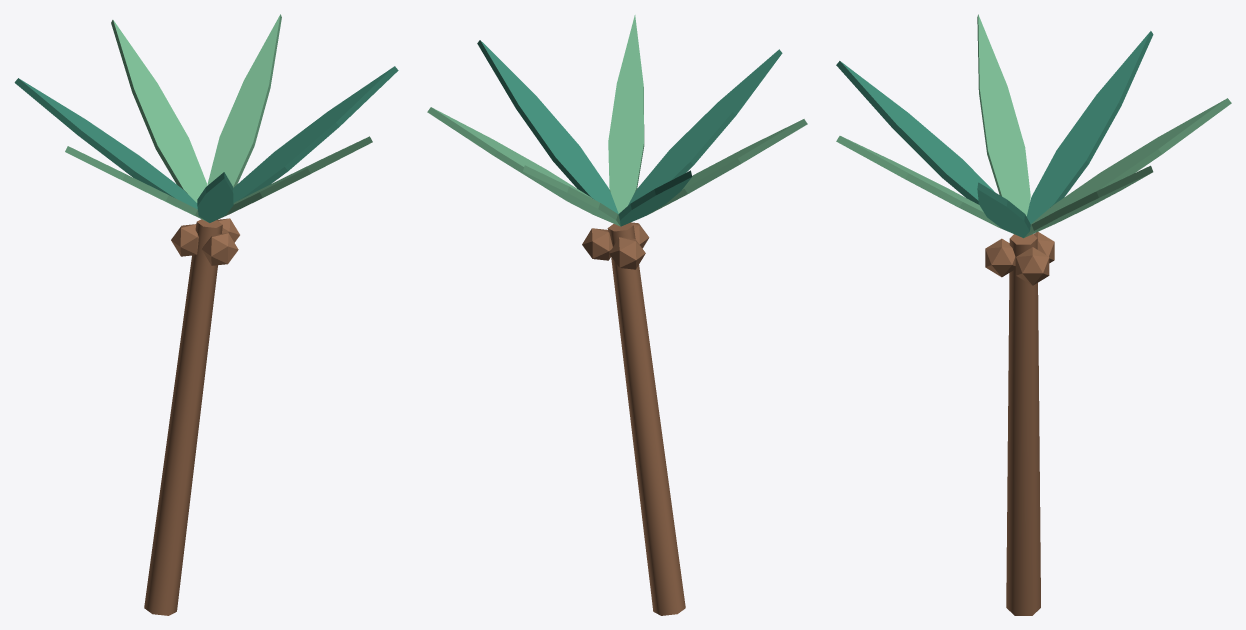
The model's file is coastal-palm.glb.
3 views of the same model, side by side, from view 1: azimuth 30°, elevation 25°; view 2: azimuth 150°, elevation 25°; view 3: azimuth 270°, elevation 25° (orthographic). The views are drawn at different scales.
Parts seen in each view (by area): view 1: trunk, palm-frond-0, palm-frond-6, palm-frond-5, palm-frond-1, coconut (×2), palm-frond-4, palm-frond-3, palm-frond-2; view 2: trunk, palm-frond-4, palm-frond-5, palm-frond-3, palm-frond-2, palm-frond-6, coconut (×2), palm-frond-0, palm-frond-1; view 3: trunk, palm-frond-1, palm-frond-2, palm-frond-3, palm-frond-0, coconut (×2), palm-frond-4, palm-frond-5, palm-frond-6.
Boxes of the visible parts, left/top/right/bottom form: trunk: left=144, top=219, right=222, bottom=615; palm-frond-0: left=111, top=20, right=207, bottom=202; palm-frond-6: left=207, top=14, right=281, bottom=187; palm-frond-5: left=233, top=66, right=398, bottom=202; palm-frond-1: left=14, top=78, right=197, bottom=209; coconut (×2): left=171, top=224, right=238, bottom=265; palm-frond-4: left=216, top=136, right=372, bottom=220; palm-frond-3: left=197, top=172, right=233, bottom=222; palm-frond-2: left=65, top=146, right=207, bottom=221; trunk: left=607, top=223, right=685, bottom=615; palm-frond-4: left=608, top=15, right=644, bottom=213; palm-frond-5: left=477, top=40, right=618, bottom=214; palm-frond-3: left=628, top=49, right=782, bottom=205; palm-frond-2: left=646, top=119, right=807, bottom=215; palm-frond-6: left=427, top=107, right=592, bottom=198; coconut (×2): left=582, top=228, right=645, bottom=269; palm-frond-0: left=523, top=165, right=620, bottom=226; palm-frond-1: left=618, top=170, right=692, bottom=226; trunk: left=1006, top=234, right=1040, bottom=615; palm-frond-1: left=1026, top=31, right=1153, bottom=223; palm-frond-2: left=977, top=14, right=1030, bottom=216; palm-frond-3: left=836, top=61, right=994, bottom=204; palm-frond-0: left=1031, top=98, right=1231, bottom=224; coconut (×2): left=985, top=238, right=1049, bottom=285; palm-frond-4: left=836, top=136, right=1009, bottom=232; palm-frond-5: left=977, top=182, right=1030, bottom=237; palm-frond-6: left=1024, top=165, right=1153, bottom=237.
Size of the model in its own units: 7.45 by 10.88 by 7.27.
